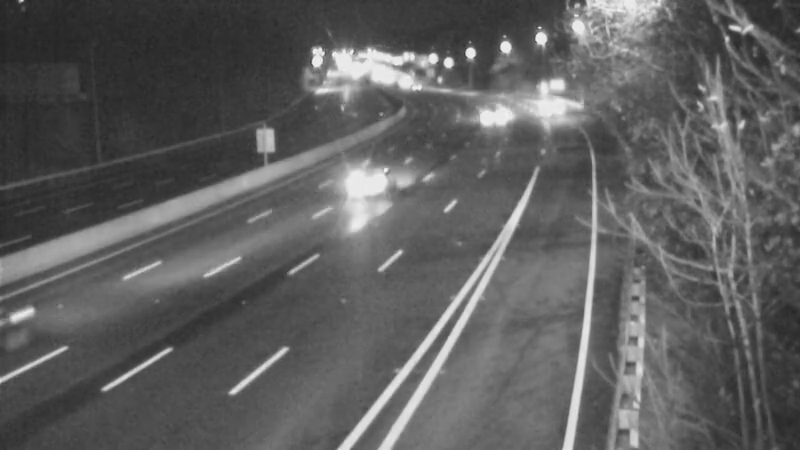vehicle: (325, 140, 405, 220), (525, 82, 575, 132), (469, 89, 519, 139)
